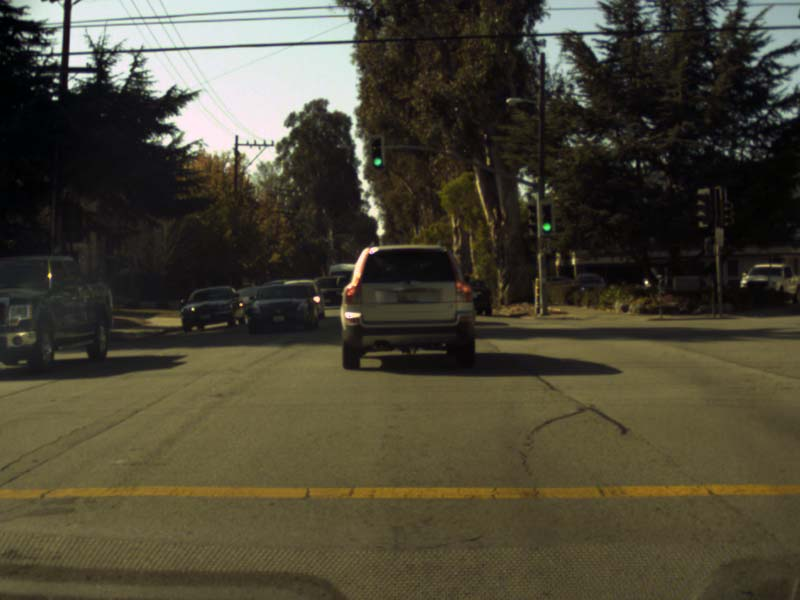Green: (369, 138, 383, 166), (541, 203, 553, 234)
